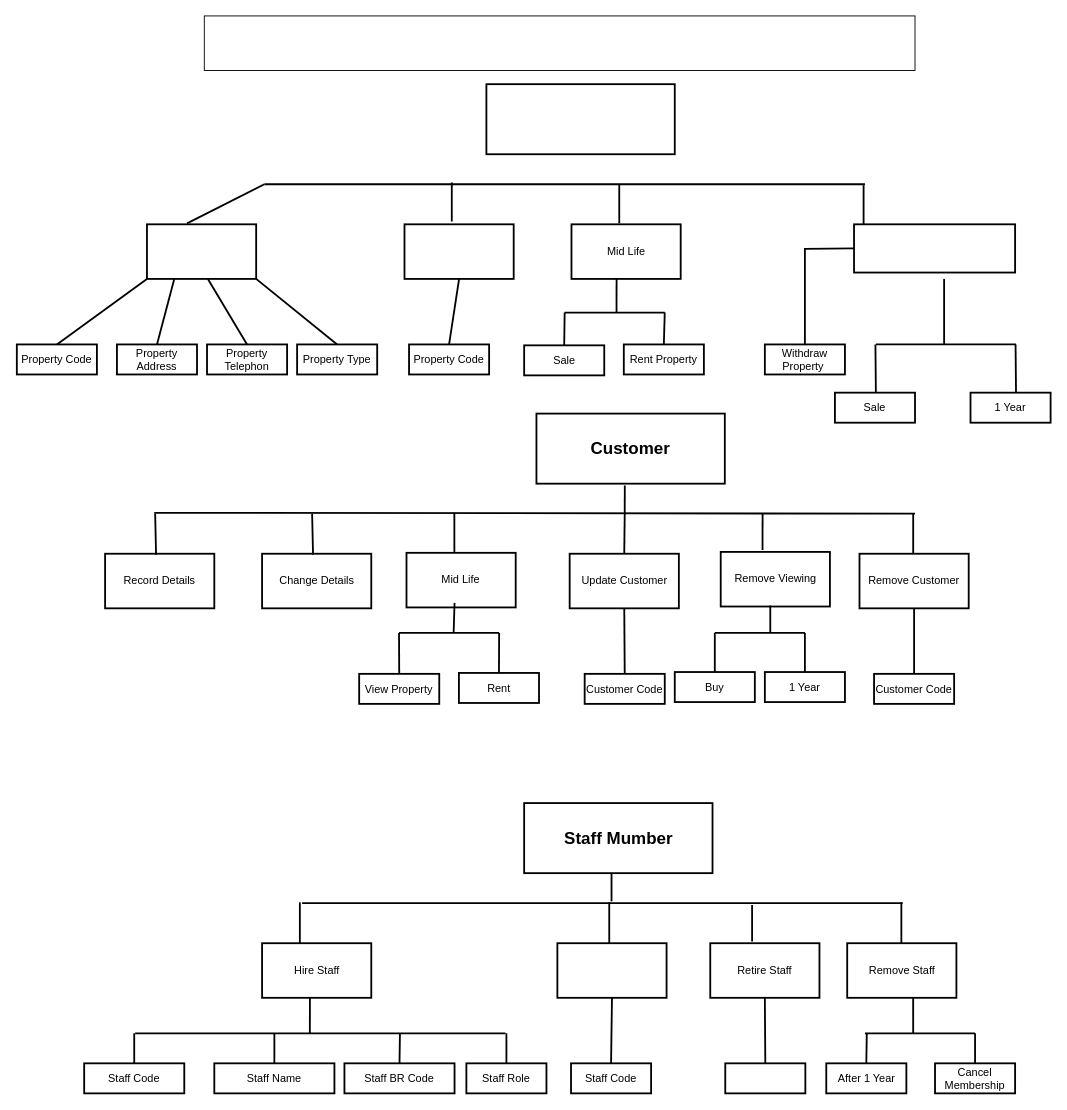
This 1067x1110 diagram has some shape labels left out. The centre of each missing label's shape, as x and y in pixels:
"Add Property" goes at pixel 201 251.
"Change Property" goes at pixel 458 251.
"Entity Life History Diagram for the three most active entities" goes at pixel 559 43.
"Property" goes at pixel 580 119.
"Remove Property" goes at pixel 934 248.
"SM_Code" goes at pixel 765 1078.
"Update Staff" goes at pixel 611 970.
